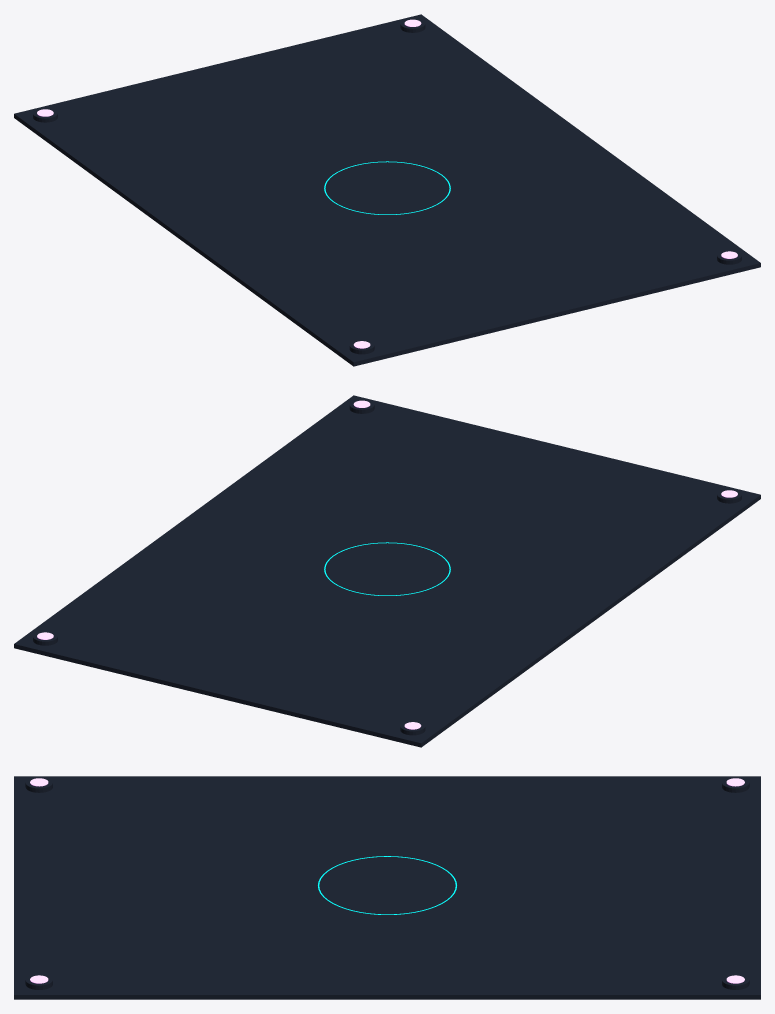
Rendered from piso_arena_cyber.glb.
3 renders of one model, top to bottom at view 1: azimuth 30°, elevation 25°; view 2: azimuth 150°, elevation 25°; view 3: azimuth 270°, elevation 25°, orthographic. The views are drawn at different scales.
Visible parts, largest first — view 1: FloorRim; view 2: FloorRim; view 3: FloorRim, CenterRing.
Boxes of the visible parts, x1,y1,x2,y2 form: FloorRim: (14,14,760,366); FloorRim: (14,395,760,747); FloorRim: (14,776,760,999); CenterRing: (318,856,456,914).
Bounding box in the file's own units: 4.5 × 0.095 × 6.5.
